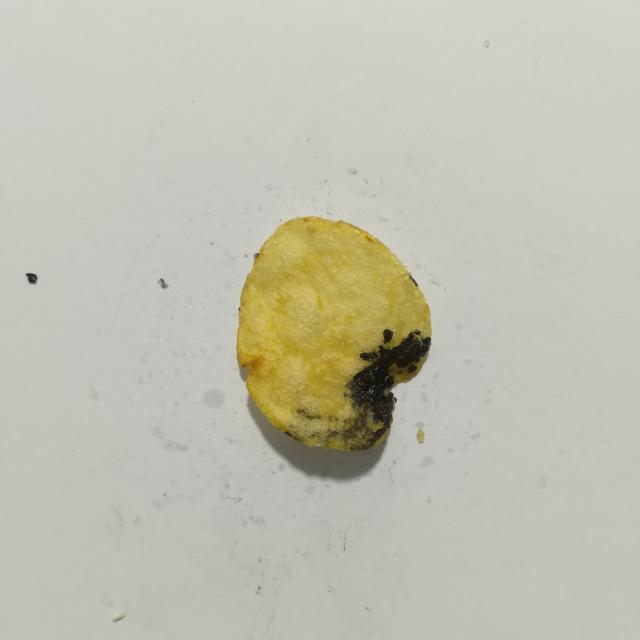chip: (237, 217, 431, 450)
damaged: (348, 330, 431, 444), (383, 328, 393, 344)
semi-damaged: (303, 402, 378, 451), (296, 407, 340, 425), (282, 430, 305, 444)
